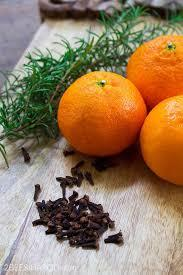orange: (66, 70, 146, 155), (127, 10, 183, 80), (144, 88, 183, 174)
